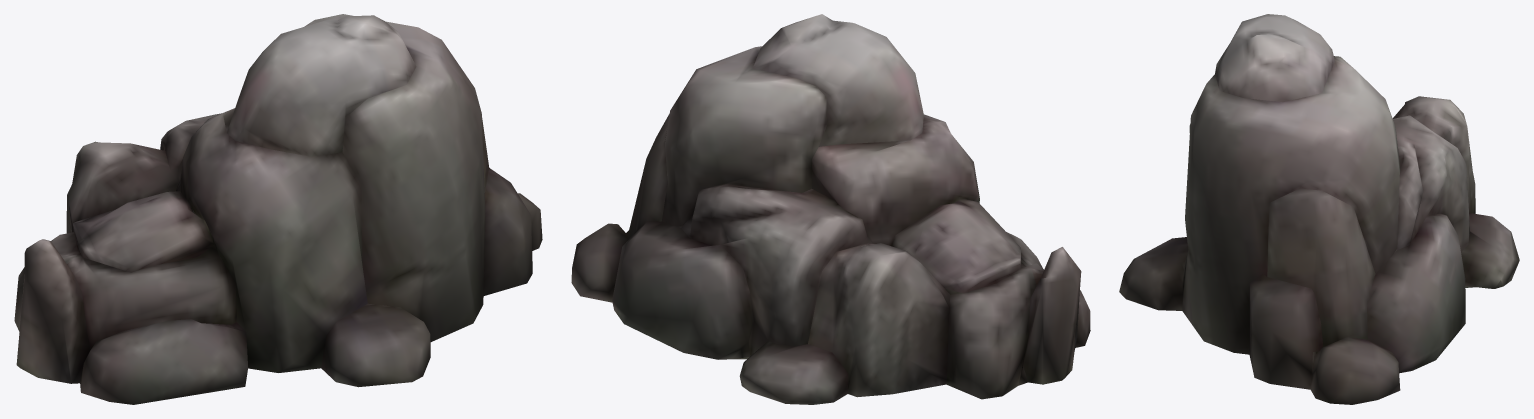
Rendered from rock-big-1.lod0.glb.
3 views of the same model, side by side, from view 1: azimuth 30°, elevation 25°; view 2: azimuth 150°, elevation 25°; view 3: azimuth 270°, elevation 25° (orthographic). The views are drawn at different scales.
Parts seen in each view (by area): view 1: Big_2_BiG_0; view 2: Big_2_BiG_0; view 3: Big_2_BiG_0.
Part boxes in pixels (<box>): Big_2_BiG_0: <box>14,14,542,404</box>; Big_2_BiG_0: <box>571,14,1090,404</box>; Big_2_BiG_0: <box>1119,14,1519,404</box>.
Bounding box in the file's own units: 7 × 3.8 × 5.01.
Materials: 1 (1 with a texture image).
